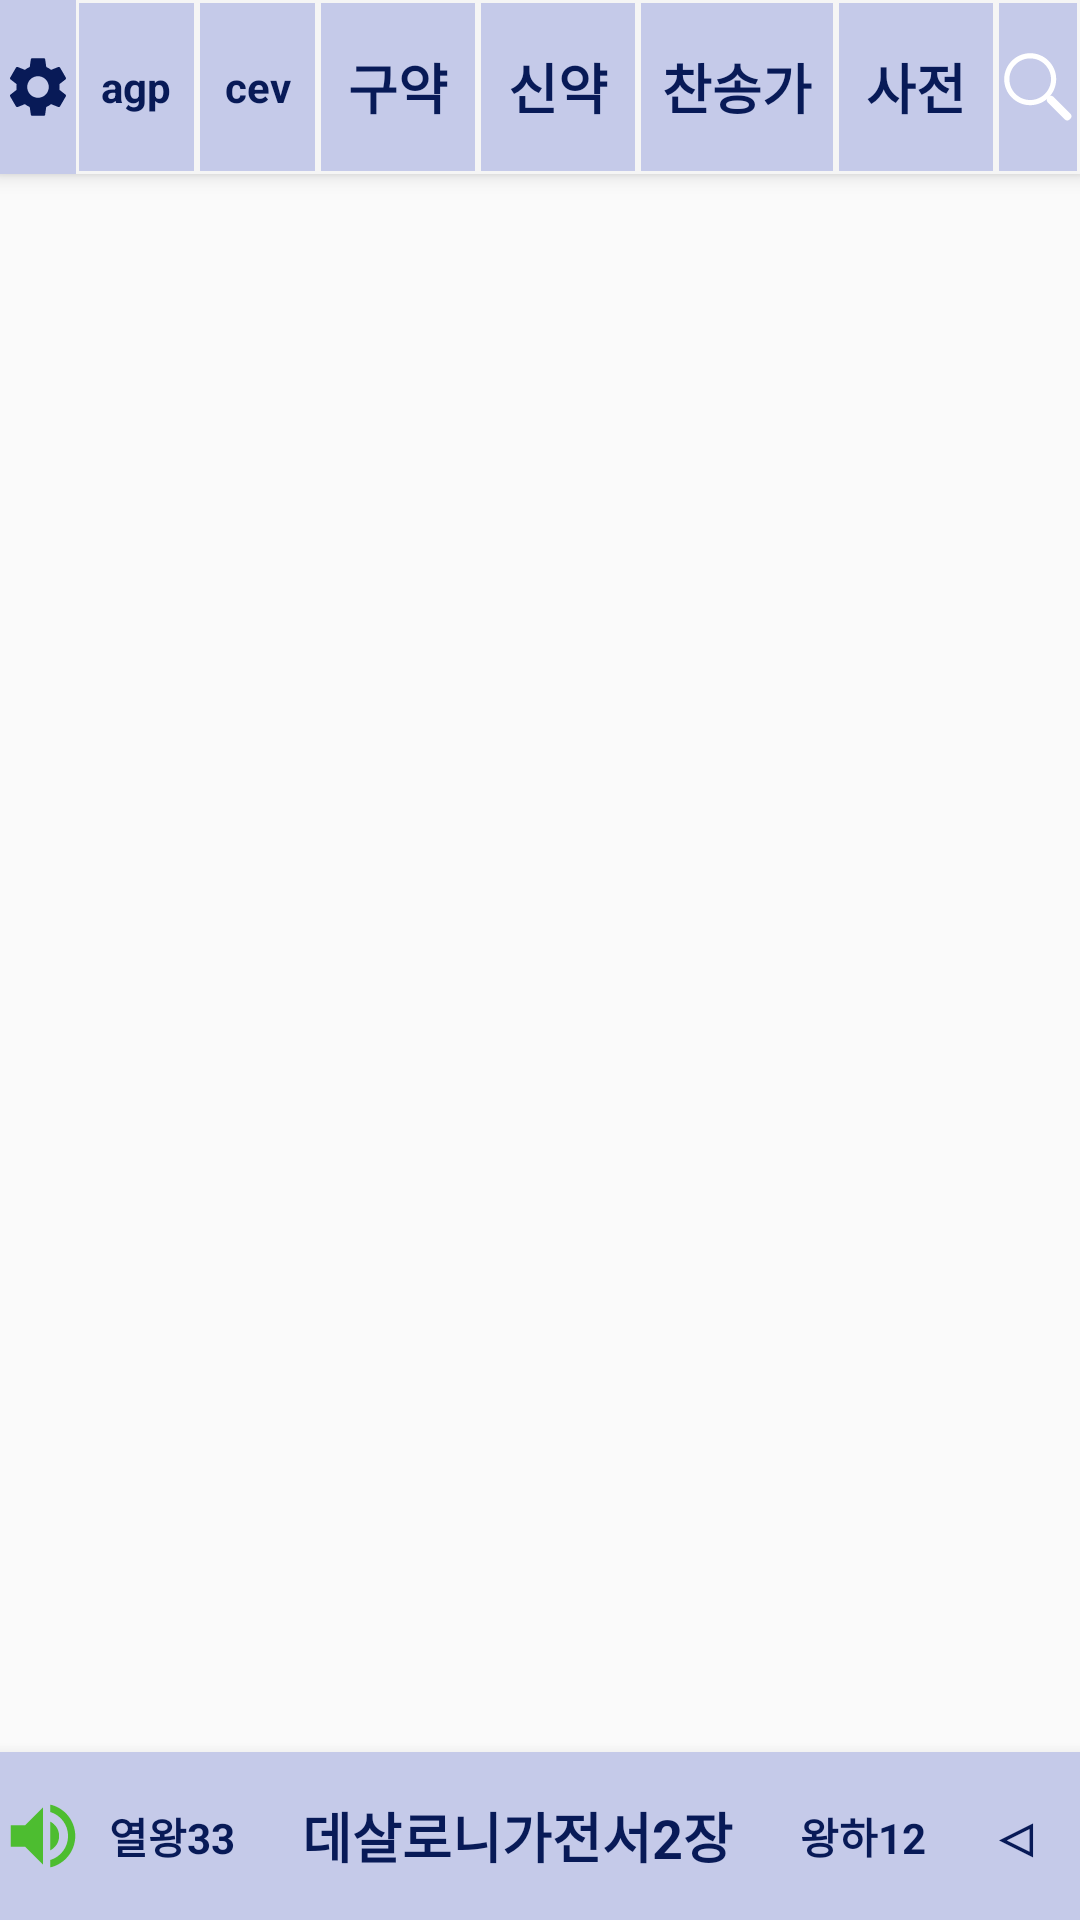

Icon bounding boxes for this 1080 x 1920 phone screenshot, format (x1, y1, x2, y2):
search: (999, 3, 1077, 171)
setting: (10, 58, 66, 116)
talk: (10, 1804, 76, 1868)
